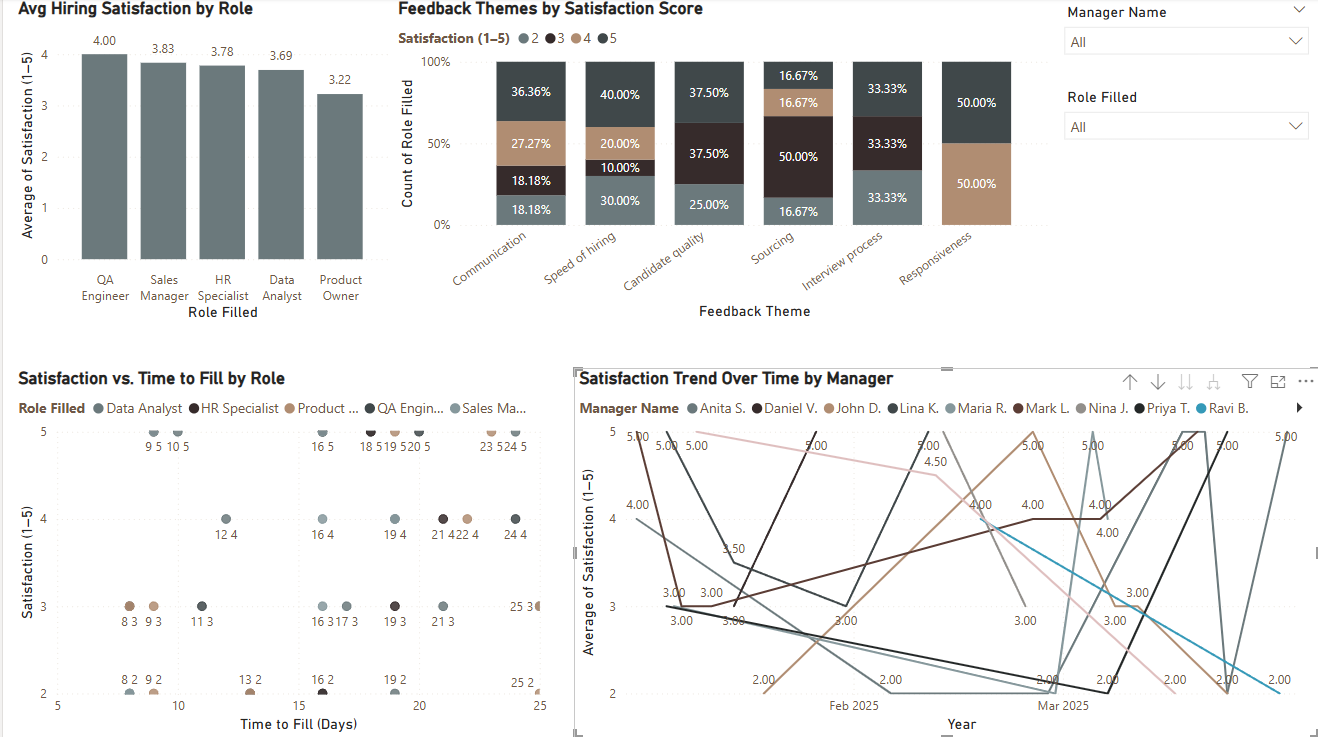

The dashboard page shown, as its layout file describes it:
{"tool":"powerbi","page":{"name":"Page 1","canvas":[1280,720],"ordinal":0},"visuals":[{"type":"clusteredColumnChart","title":"Avg Hiring Satisfaction by Role","fields":{"Category":["Sheet1.Role Filled"],"Y":["Sheet1.Satisfaction (1–5)"]},"box":[9.7,0,369.6,318.1],"z":0},{"type":"lineChart","title":"Satisfaction Trend Over Time by Manager","fields":{"Y":["Sheet1.Satisfaction (1–5)"],"Series":["Sheet1.Manager Name"],"Category":["Sheet1.Offer Date.Variation.Date Hierarchy.Year","Sheet1.Offer Date.Variation.Date Hierarchy.Quarter","Sheet1.Offer Date.Variation.Date Hierarchy.Month","Sheet1.Offer Date.Variation.Date Hierarchy.Day"]},"box":[555.4,359.9,724.6,359.9],"z":1},{"type":"scatterChart","title":"Satisfaction vs. Time to Fill by Role","fields":{"Y":["Sheet1.Satisfaction (1–5)"],"X":["Sheet1.Time to Fill (Days)"],"Series":["Sheet1.Role Filled"]},"box":[9.7,359.9,524.3,359.9],"z":2},{"type":"hundredPercentStackedColumnChart","title":"Feedback Themes by Satisfaction Score","fields":{"Category":["Sheet1.Feedback Theme"],"Y":["Sheet1.Role Filled"],"Series":["Sheet1.Satisfaction (1–5)"]},"box":[379.3,0,642.9,318.1],"z":3},{"type":"slicer","fields":{"Values":["Sheet1.Manager Name"]},"box":[1022.2,0,257.8,82.7],"z":4},{"type":"slicer","fields":{"Values":["Sheet1.Role Filled"]},"box":[1022.2,82.7,257.8,84.6],"z":5}]}

Visuals, with their boxes in screenshot pixels (x1, y1, x2, y2), scaled from the page's 1280x720 canvas onto the 1318x737 screenshot:
"Avg Hiring Satisfaction by Role" clusteredColumnChart: [10,0,391,326]
"Satisfaction Trend Over Time by Manager" lineChart: [572,368,1317,736]
"Satisfaction vs. Time to Fill by Role" scatterChart: [10,368,550,736]
"Feedback Themes by Satisfaction Score" hundredPercentStackedColumnChart: [391,0,1053,326]
slicer - Sheet1.Manager Name: [1053,0,1317,85]
slicer - Sheet1.Role Filled: [1053,85,1317,171]
